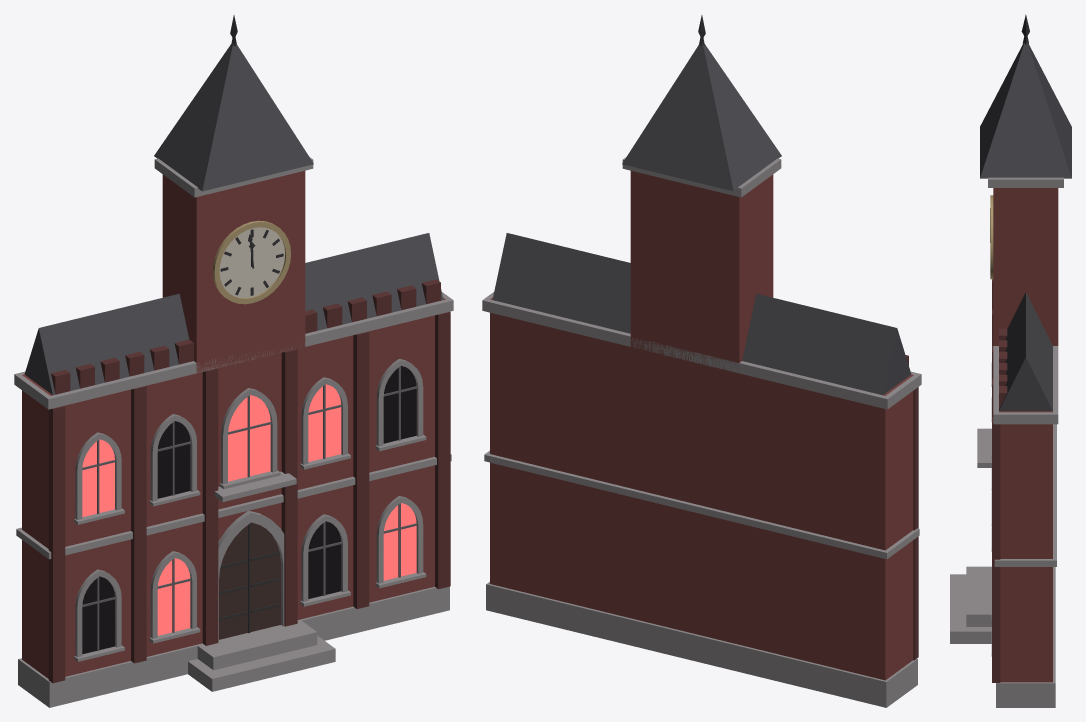
The model's file is mansion_facade.glb.
3 views of the same model, side by side, from view 1: azimuth 30°, elevation 25°; view 2: azimuth 150°, elevation 25°; view 3: azimuth 270°, elevation 25° (orthographic). The views are drawn at different scales.
Parts seen in each view (by area): view 1: MansionFacade; view 2: MansionFacade; view 3: MansionFacade.
Part boxes in pixels (x1,y1,x2,y2): MansionFacade: [14, 15, 453, 707]; MansionFacade: [482, 15, 921, 707]; MansionFacade: [950, 14, 1071, 707].
Size of the model in its own units: 16.4 by 24.5 by 4.5.
